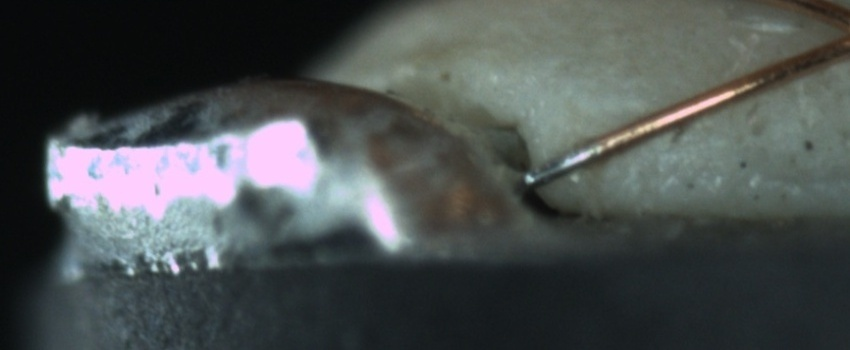CL: (828, 6, 850, 55)
TS: (522, 139, 602, 186)
TTCW: (523, 131, 612, 188)
